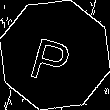P_N: (30, 26, 80, 84)
